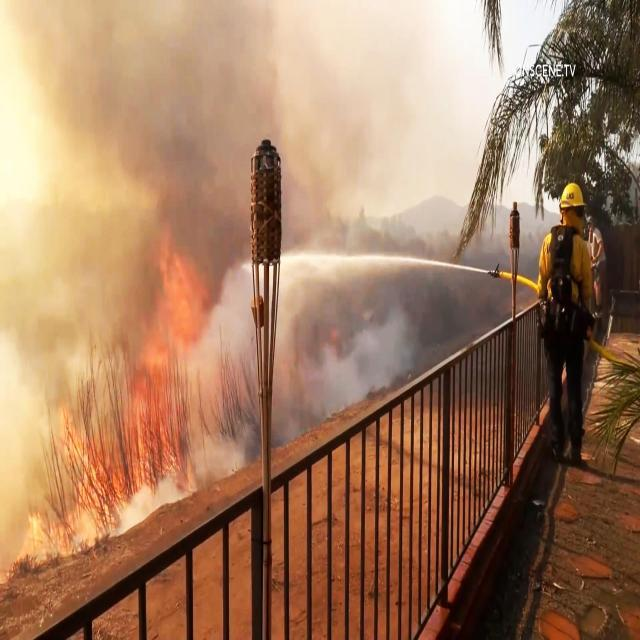Fire: (58, 378, 174, 509), (148, 226, 212, 368)
Smoke: (1, 3, 238, 210)
